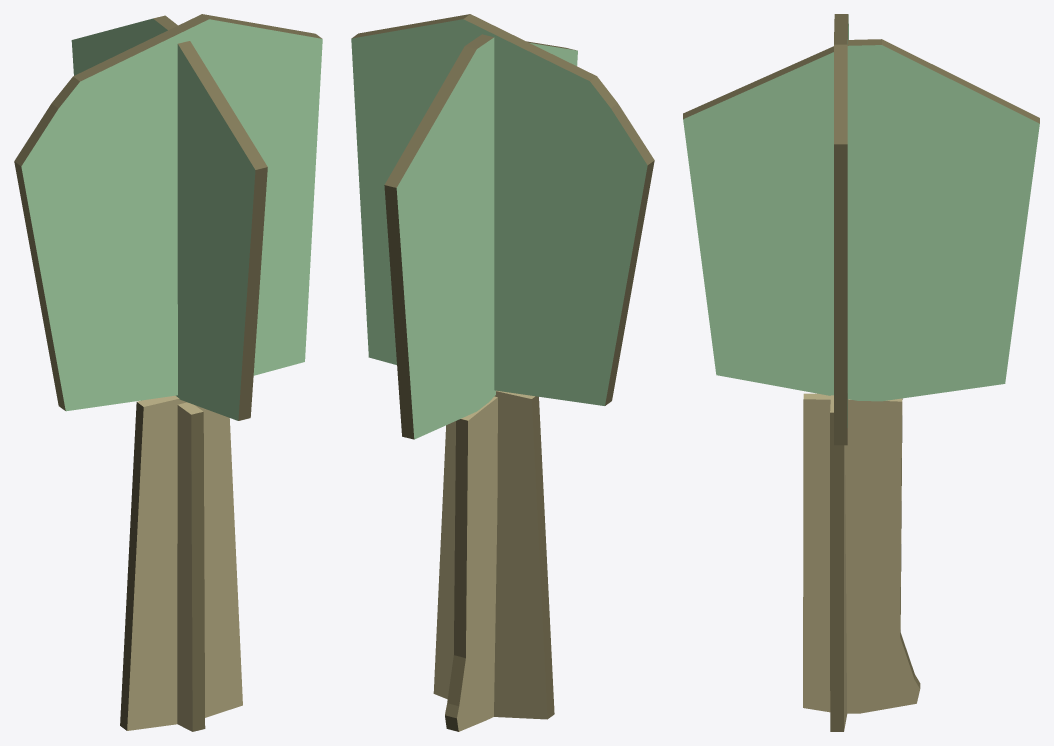
Rendered from TreeBackgroundUgly.fbx.
3 renders of one model, left to right at view 1: azimuth 30°, elevation 25°; view 2: azimuth 150°, elevation 25°; view 3: azimuth 270°, elevation 25°, orthographic. The views are drawn at different scales.
Visible parts, largest first — view 1: TreeBackground; view 2: TreeBackground; view 3: TreeBackground.
Part boxes in pixels (bbox=[...]): TreeBackground: bbox=[14, 14, 322, 731]; TreeBackground: bbox=[351, 14, 654, 731]; TreeBackground: bbox=[683, 14, 1039, 731].
Bounding box in the file's own units: 48.68 × 108 × 51.51.
